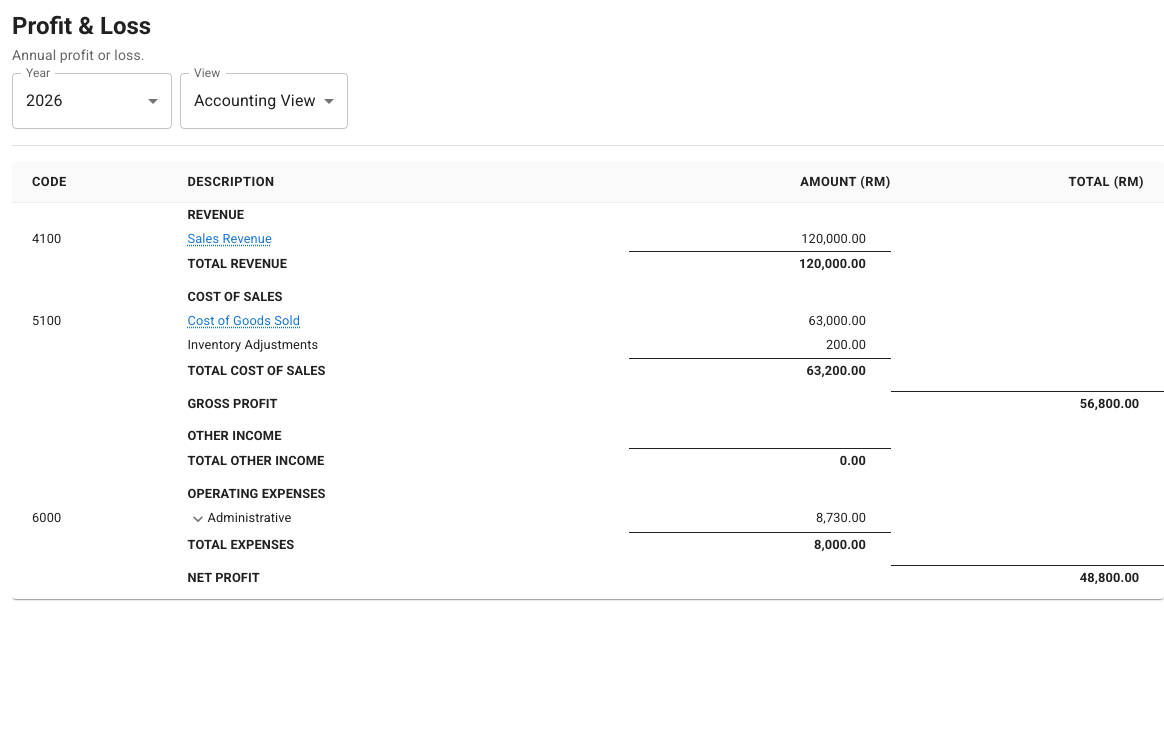
it: ProfitAndLossPage › expands a group nested inside another group
The width and height of the screenshot is (1164, 732).
Click the button with test id "pl-expand-account:admin".
click(198, 519)  # box [188,509,208,529]
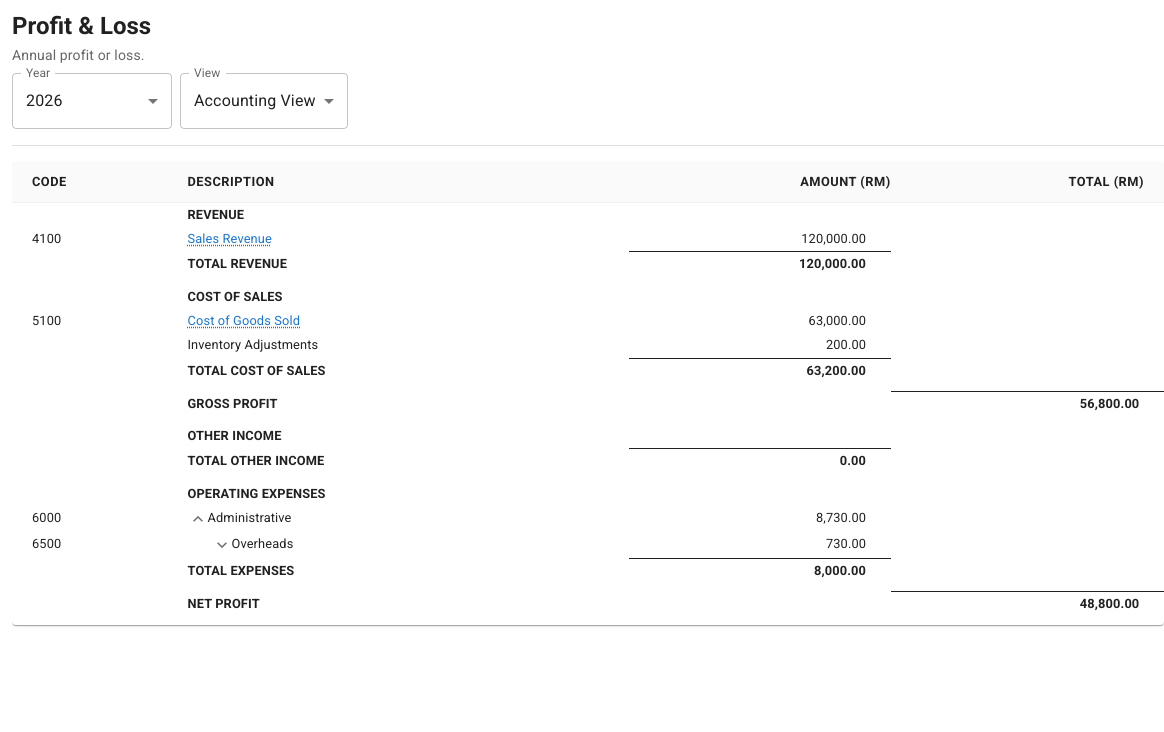
Click the button with test id "pl-expand-account:oh".
click(222, 545)  # box [212,535,232,555]
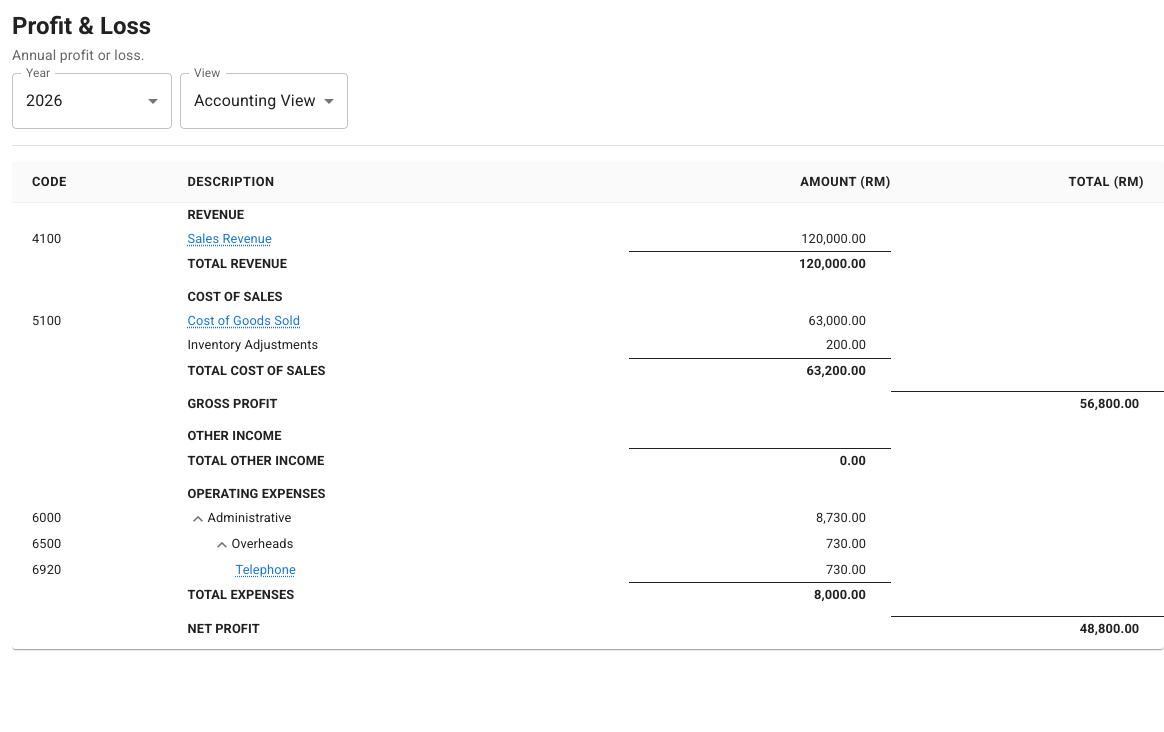
Now the row with test id "pl-row-account:phone" is shown, box [12,558,1163,582]
